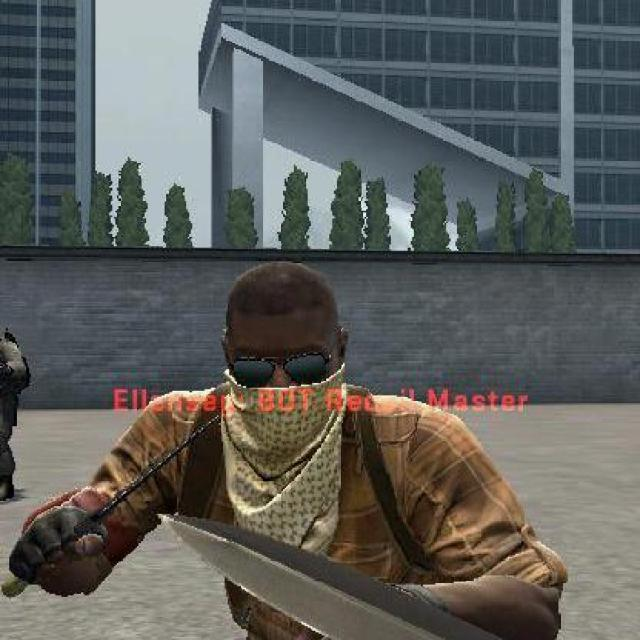CT: (0, 312, 29, 505)
T: (4, 251, 574, 638)
T_HEAD: (216, 260, 350, 457)
